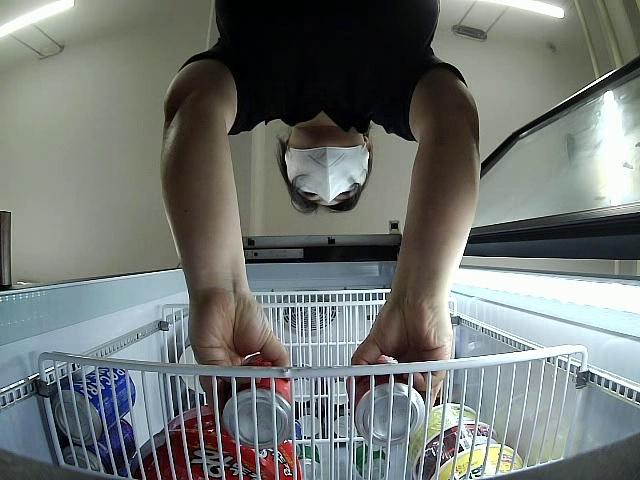00_hand: (351, 299, 454, 409), (187, 291, 291, 399)
11_cocaColaZero: (345, 355, 425, 445), (223, 355, 294, 448)
